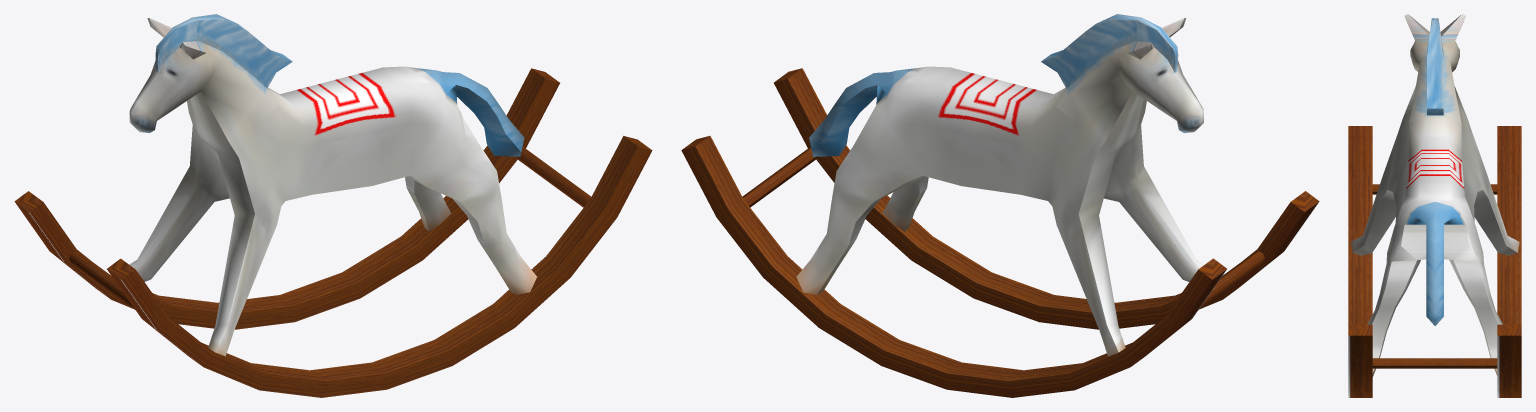
Rendered from horse.FBX.
3 renders of one model, left to right at view 1: azimuth 30°, elevation 25°; view 2: azimuth 150°, elevation 25°; view 3: azimuth 270°, elevation 25°, orthographic. The views are drawn at different scales.
Visible parts, largest first — view 1: horse; view 2: horse; view 3: horse.
Boxes of the visible parts, bbox=[...] form: horse: bbox=[14, 14, 652, 397]; horse: bbox=[681, 14, 1319, 397]; horse: bbox=[1348, 14, 1521, 397].
Bounding box in the file's own units: 107 × 37.45 × 70.48.
Materials: 1 (1 with a texture image).
